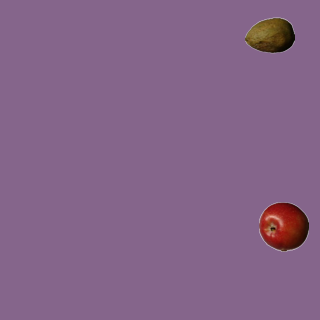Apple Braeburn: (258, 201, 308, 251)
Papaya: (244, 10, 294, 60)
